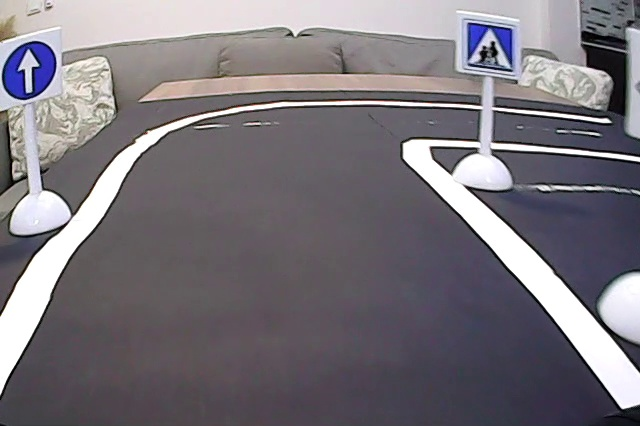school crossing: (458, 14, 518, 75)
